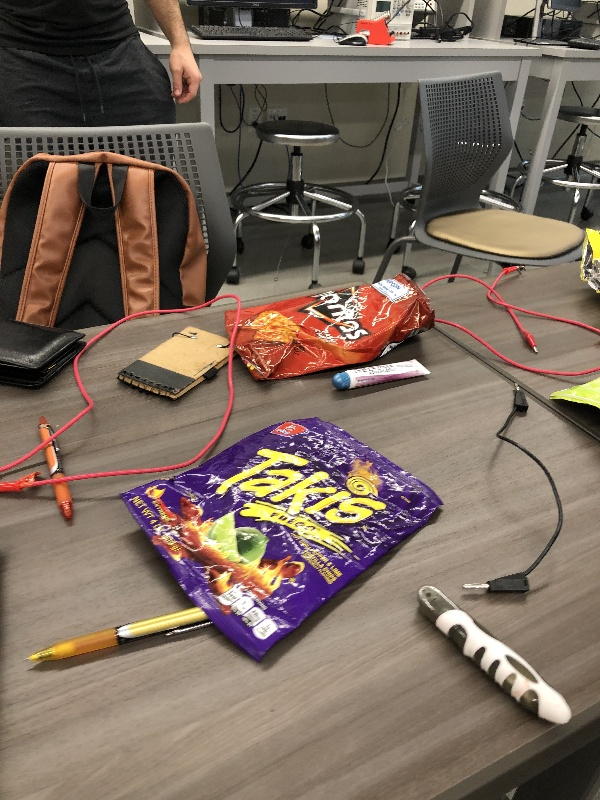bag: (117, 415, 446, 673), (221, 268, 439, 387), (548, 375, 600, 429), (573, 219, 600, 299)
